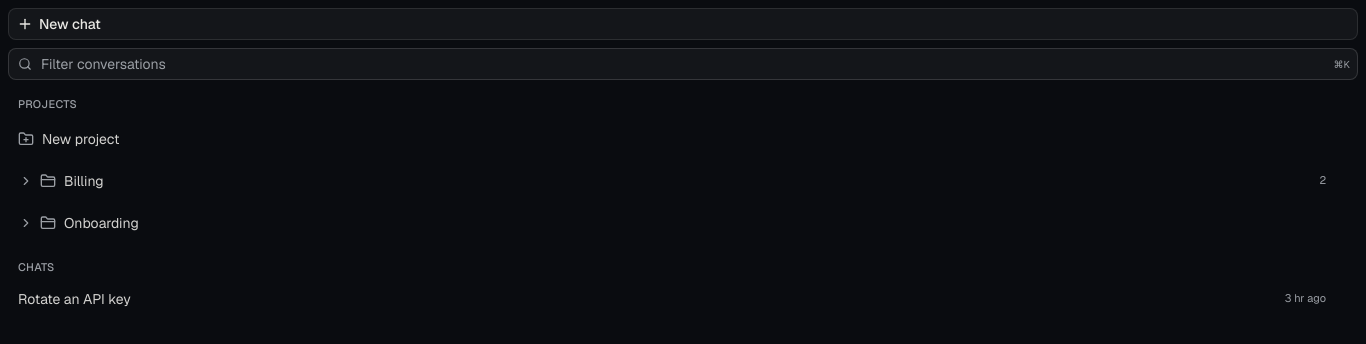
Scenario: projects in the chat sidebar › refuses a name another project has, whatever the case
Click the button "New project" at (81,138), box 8,118 -> 1358,158
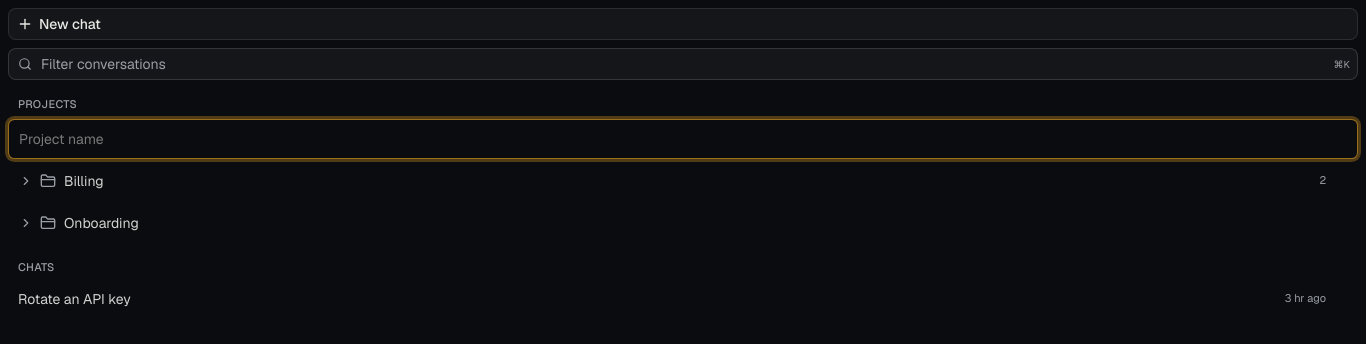
Type "billing" into the field named "New project name" at (683,138), box 8,118 -> 1358,158
Then press Enter
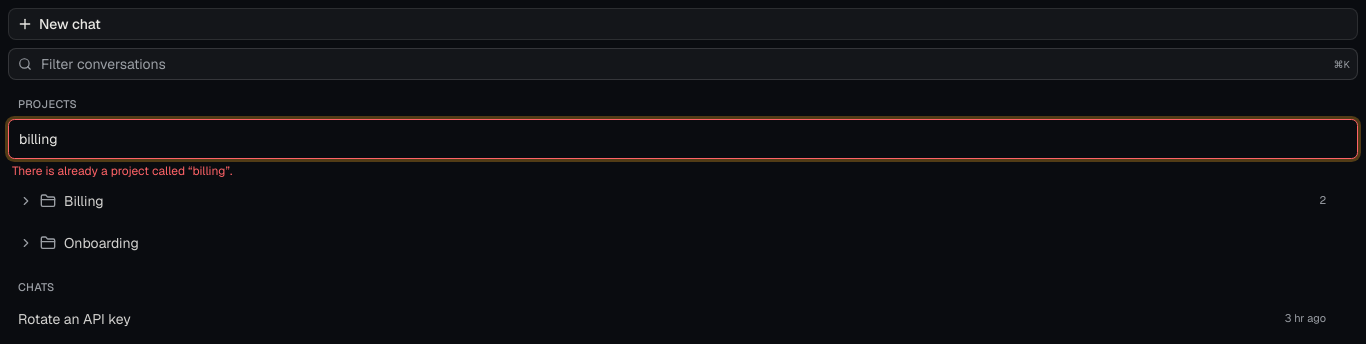
Check: the message reads "There is already a project called “billing”.", box 12,162 -> 232,178
